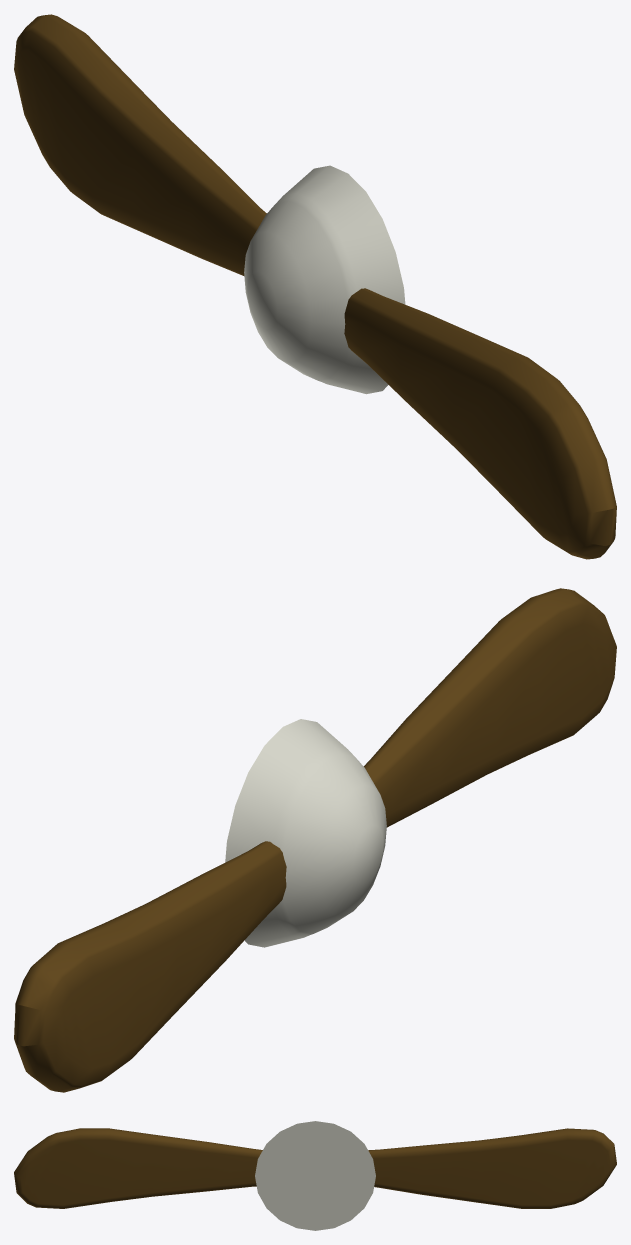
Rendered from SM_Rotor.fbx.
3 renders of one model, top to bottom at view 1: azimuth 30°, elevation 25°; view 2: azimuth 150°, elevation 25°; view 3: azimuth 270°, elevation 25°, orthographic. The views are drawn at different scales.
Parts seen in each view (by area): view 1: SM_Rotor; view 2: SM_Rotor; view 3: SM_Rotor.
Part boxes in pixels (left/top/right/bottom): SM_Rotor: left=14, top=14, right=616, bottom=559; SM_Rotor: left=14, top=588, right=616, bottom=1092; SM_Rotor: left=14, top=1121, right=616, bottom=1230.
Size of the model in its own units: 0.311 by 3.57 by 0.7172.
